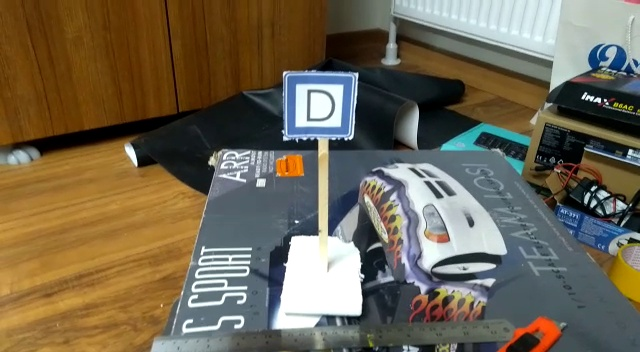durak: (285, 75, 350, 142)
